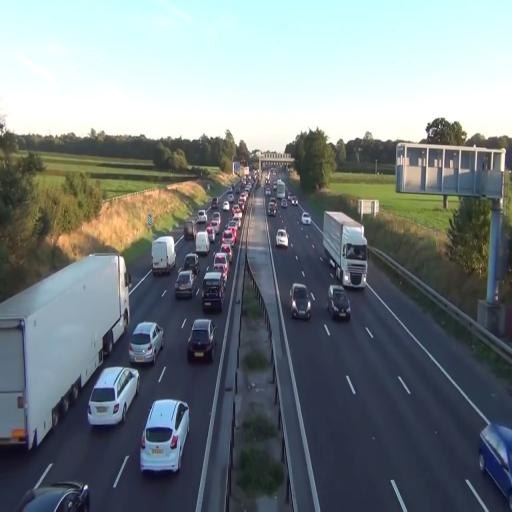vehicle: (0, 251, 131, 453), (140, 397, 190, 476), (322, 209, 368, 289), (18, 462, 90, 511), (88, 364, 140, 427), (128, 321, 164, 364), (187, 318, 215, 362), (201, 270, 223, 315), (152, 236, 176, 276), (327, 283, 351, 321), (290, 282, 313, 320), (175, 269, 196, 301), (214, 250, 229, 283), (275, 226, 289, 248), (267, 197, 278, 217), (301, 210, 311, 224)
